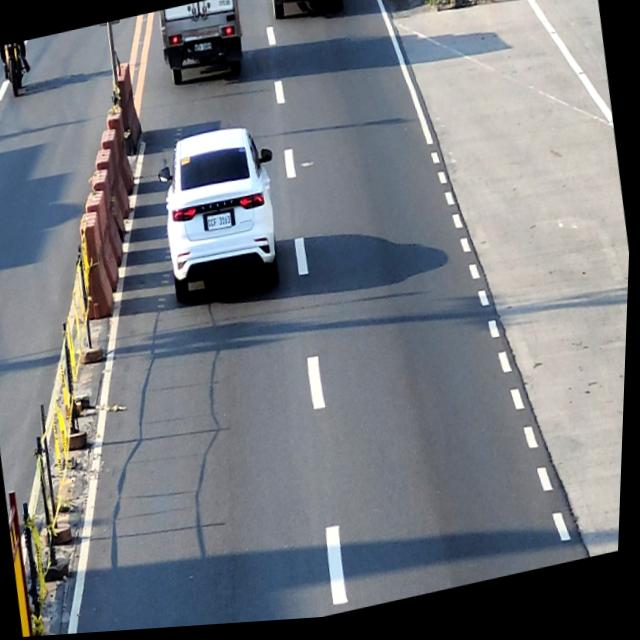Car: (151, 122, 297, 321)
License-Plate: (208, 215, 235, 235), (195, 44, 213, 56)
Motorcycle: (0, 42, 29, 100)
Truck: (157, 0, 250, 89)
